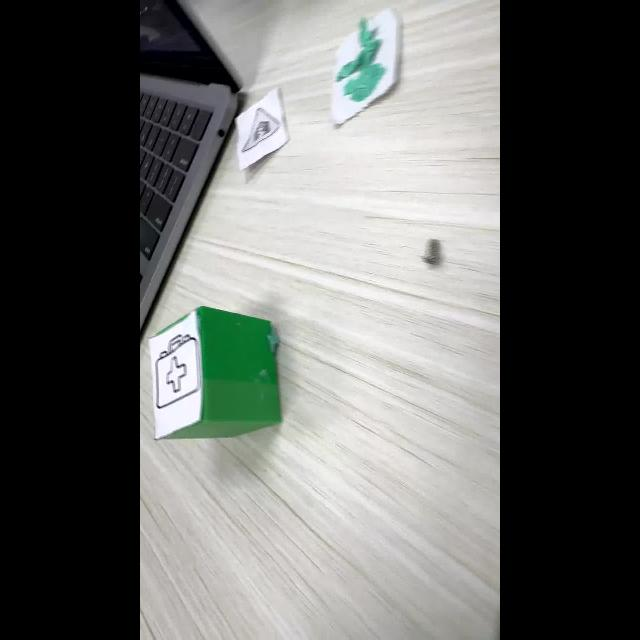Medkit: (156, 333, 202, 408)
